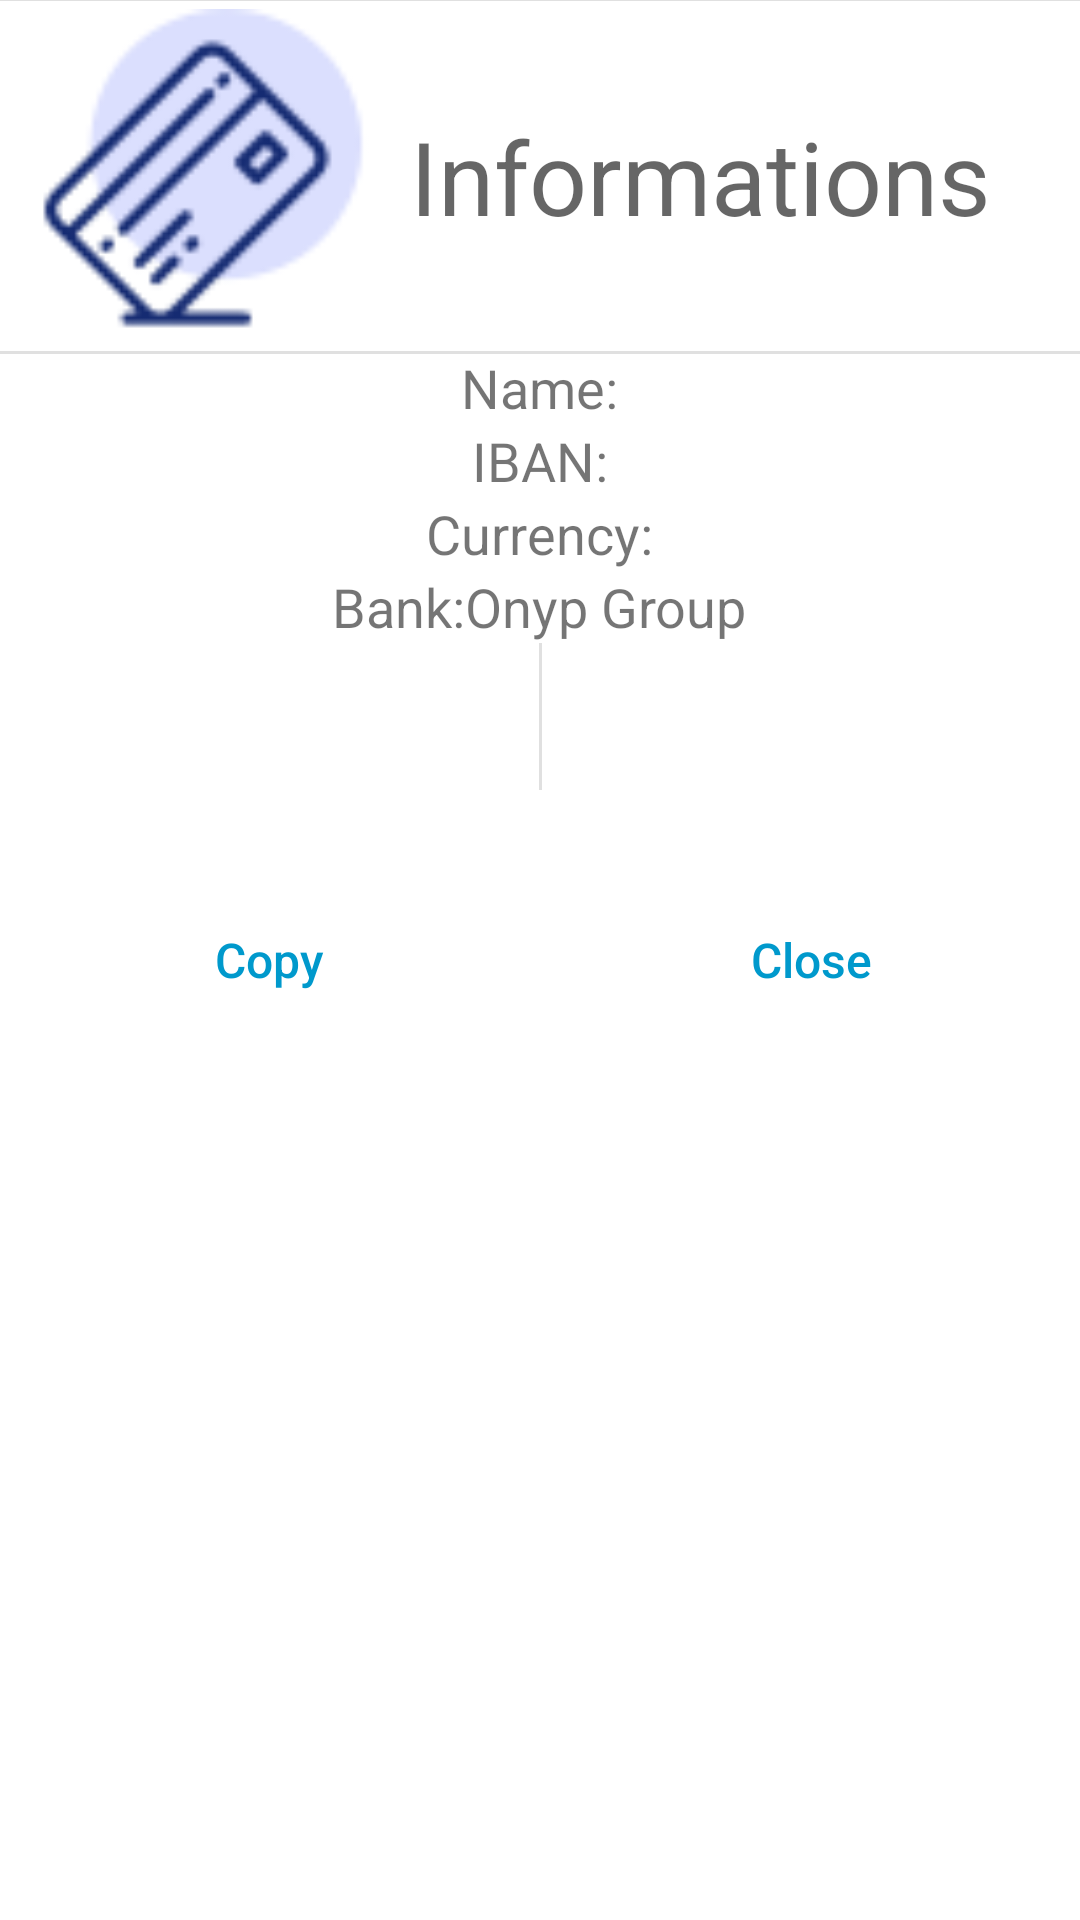

Locate icon controls on the screen. Image size 1080w x 1920h, boxes as detection(x1, y1, x2, y2).
infocardicon: detection(43, 9, 361, 328)
